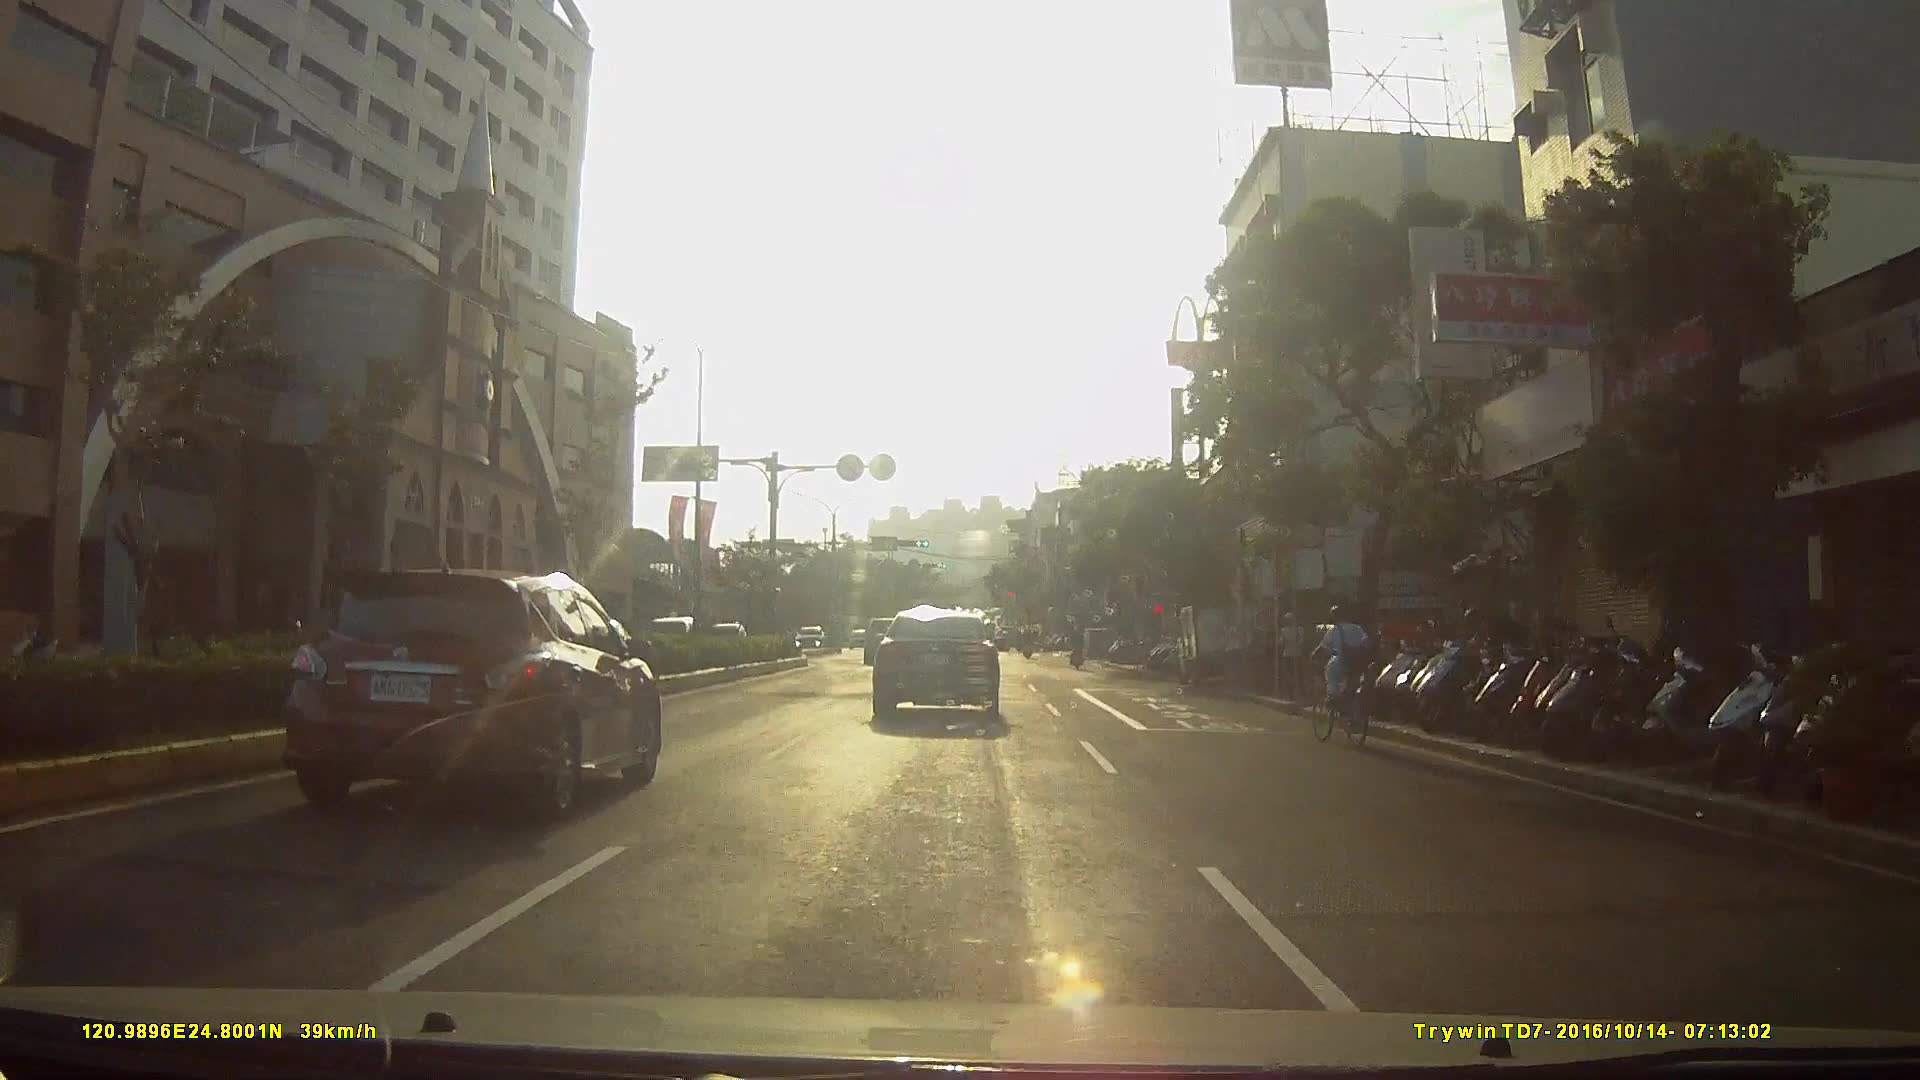pedestrian: (1279, 614, 1314, 705)
rider: (1312, 607, 1382, 749)
vehicle: (275, 562, 670, 822), (866, 606, 1016, 731), (1176, 597, 1267, 687), (763, 607, 822, 662), (783, 623, 834, 659)
